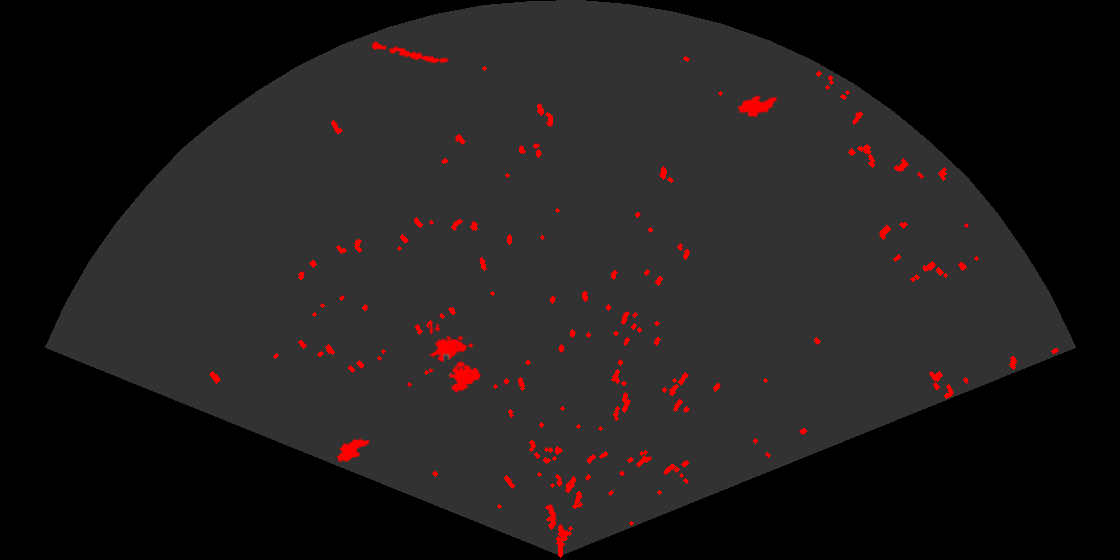AUV: (736, 94, 779, 119), (335, 437, 372, 464)
cage: (429, 324, 483, 395)
chain: (366, 40, 450, 65)
